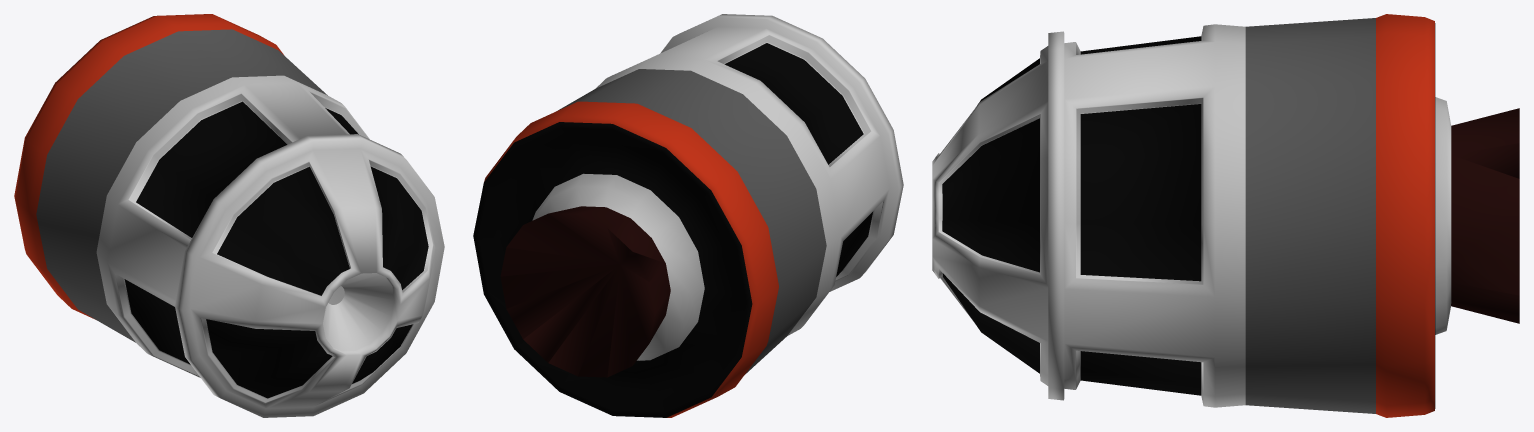
3 renders of one model, left to right at view 1: azimuth 30°, elevation 25°; view 2: azimuth 150°, elevation 25°; view 3: azimuth 270°, elevation 25°, orthographic. The views are drawn at different scales.
Parts seen in each view (by area): view 1: capsule; view 2: capsule; view 3: capsule.
Part boxes in pixels (box(x1,y1,x2,y2)): capsule: box(14, 14, 444, 417); capsule: box(473, 14, 903, 417); capsule: box(932, 14, 1519, 417).
Size of the model in its own units: 132 by 132 by 192.
